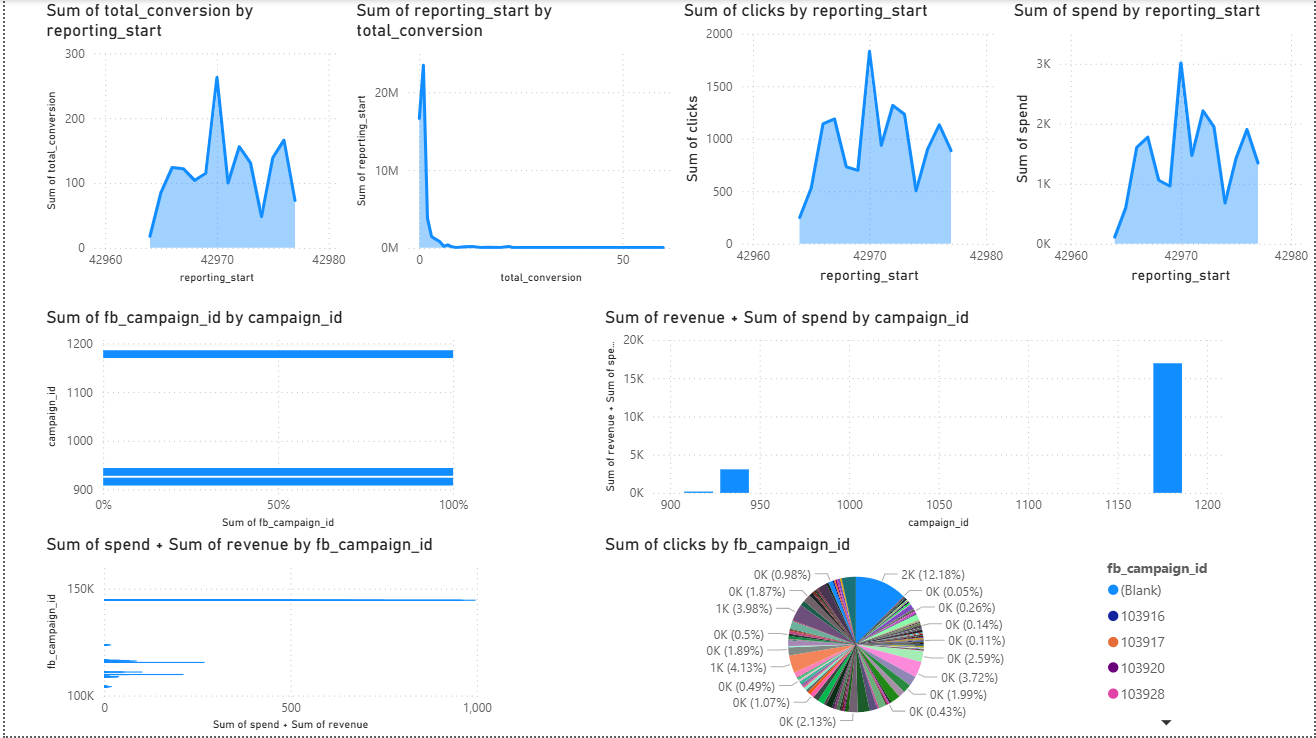

What the dashboard file says about the page in this screenshot:
{"tool":"powerbi","page":{"name":"Page 1","canvas":[1280,720],"ordinal":0},"visuals":[{"type":"stackedAreaChart","fields":{"Category":["Sheet1.reporting_start"],"Y":["Sum(Sheet1.total_conversion)"]},"box":[35.5,0,303.3,282.5],"z":0},{"type":"areaChart","fields":{"Category":["Sheet1.total_conversion"],"Y":["Sum(Sheet1.reporting_start)"]},"box":[338.7,0,320.4,282.5],"z":1000},{"type":"areaChart","fields":{"Category":["Sheet1.reporting_start"],"Y":["Sum(Sheet1.clicks)"]},"box":[659.1,0,322.8,282.5],"z":2000},{"type":"stackedAreaChart","fields":{"Category":["Sheet1.reporting_start"],"Y":["Sum(Sheet1.spend)"]},"box":[981.9,0,298.4,282.5],"z":3000},{"type":"columnChart","fields":{"Category":["Sheet1.campaign_id"],"Y":["Add(Sum(Sheet1.revenue), Sum(Sheet1.spend))"]},"box":[582.1,299.6,615.1,222.6],"z":4000},{"type":"hundredPercentStackedBarChart","fields":{"Category":["Sheet1.campaign_id"],"Y":["Sum(Sheet1.fb_campaign_id)"]},"box":[35.5,299.6,423.1,222.6],"z":5000},{"type":"barChart","fields":{"Category":["Sheet1.fb_campaign_id"],"Y":["Add(Sum(Sheet1.spend), Sum(Sheet1.revenue))"]},"box":[35.5,522.1,446.3,198.1],"z":5001},{"type":"pieChart","fields":{"Category":["Sheet1.fb_campaign_id"],"Y":["Sum(Sheet1.clicks)"]},"box":[582.1,522.1,615.1,197.9],"z":5002}]}

Visuals, with their boxes in screenshot pixels (x1, y1, x2, y2), scaled from the page's 1280x720 canvas onto the 1316x738 screenshot:
stackedAreaChart - Sheet1.reporting_start x Sum(Sheet1.total_conversion): (x1=36, y1=0, x2=348, y2=290)
areaChart - Sheet1.total_conversion x Sum(Sheet1.reporting_start): (x1=348, y1=0, x2=678, y2=290)
areaChart - Sheet1.reporting_start x Sum(Sheet1.clicks): (x1=678, y1=0, x2=1010, y2=290)
stackedAreaChart - Sheet1.reporting_start x Sum(Sheet1.spend): (x1=1010, y1=0, x2=1315, y2=290)
columnChart - Sheet1.campaign_id x Add(Sum(Sheet1.revenue), Sum(Sheet1.spend)): (x1=598, y1=307, x2=1231, y2=535)
hundredPercentStackedBarChart - Sheet1.campaign_id x Sum(Sheet1.fb_campaign_id): (x1=36, y1=307, x2=471, y2=535)
barChart - Sheet1.fb_campaign_id x Add(Sum(Sheet1.spend), Sum(Sheet1.revenue)): (x1=36, y1=535, x2=495, y2=737)
pieChart - Sheet1.fb_campaign_id x Sum(Sheet1.clicks): (x1=598, y1=535, x2=1231, y2=737)
